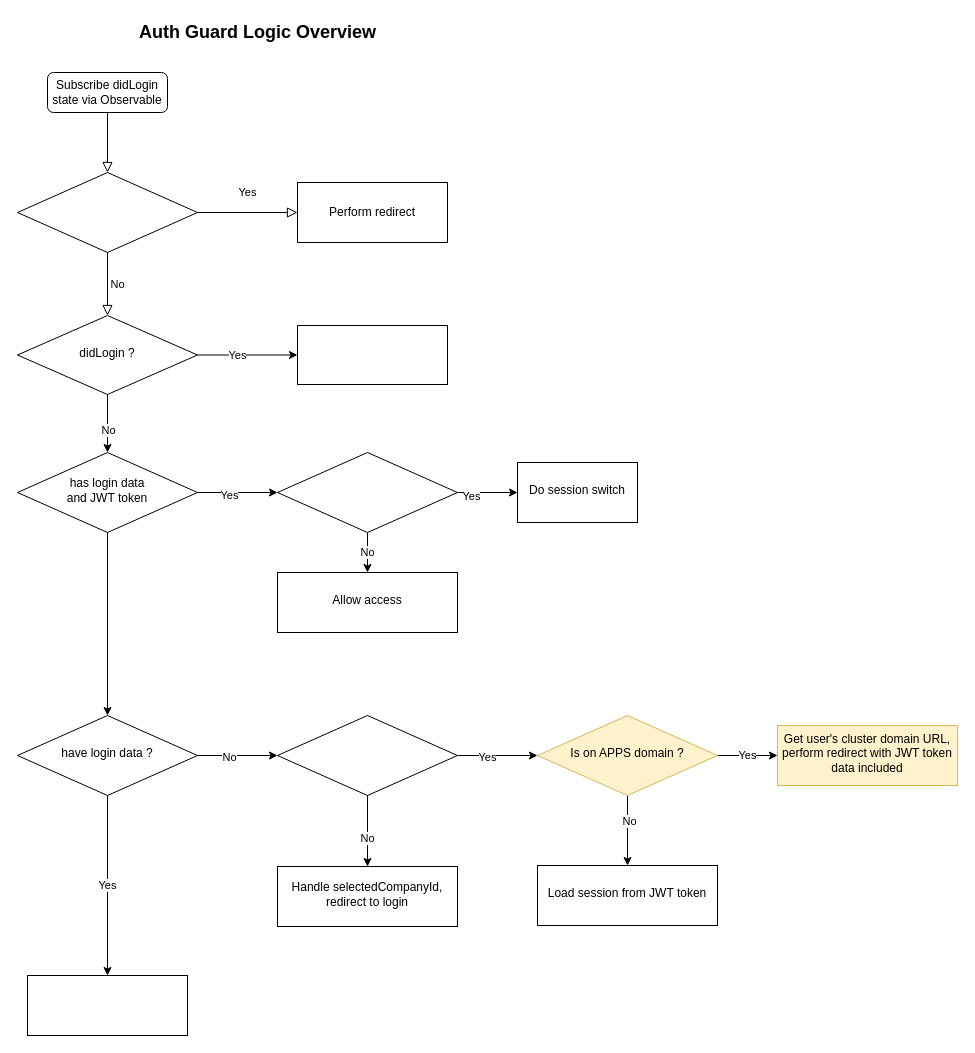
The diagram is 975 pixels wide and 1053 high, and some of its shapes have lost their labels. The shapes that lost their labels are listed below. From the top down, each one's centre as x and y in pixels, then its label:
At [107,212]: "didLogin and JWT token with redirect_to ?".
At [372,354]: "handle selectedCompanyId Allow access".
At [367,492]: "Session switch required ?".
At [367,755]: "JWT token provided ?".
At [107,1005]: "use session data from localStorage, load account settings".
